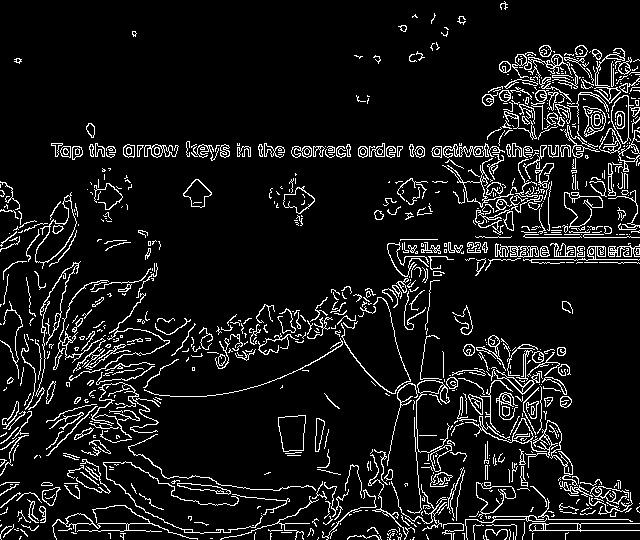left: (392, 174, 432, 212)
right: (276, 182, 324, 222), (86, 178, 130, 218)
up: (178, 174, 216, 213)
